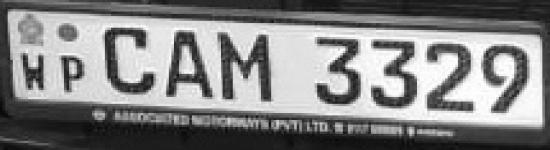2: (424, 38, 480, 117)
3: (307, 31, 364, 111), (368, 34, 422, 114)
9: (481, 38, 533, 120)
A: (157, 22, 214, 103)
C: (98, 21, 159, 100)
M: (216, 26, 283, 104)
P: (55, 51, 89, 97)
W: (18, 50, 56, 96)
